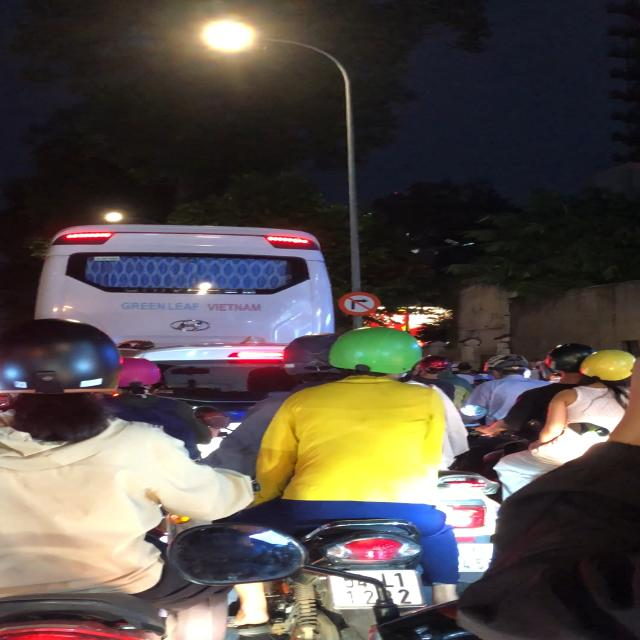Bien bao cam re phai: (331, 289, 384, 319)
